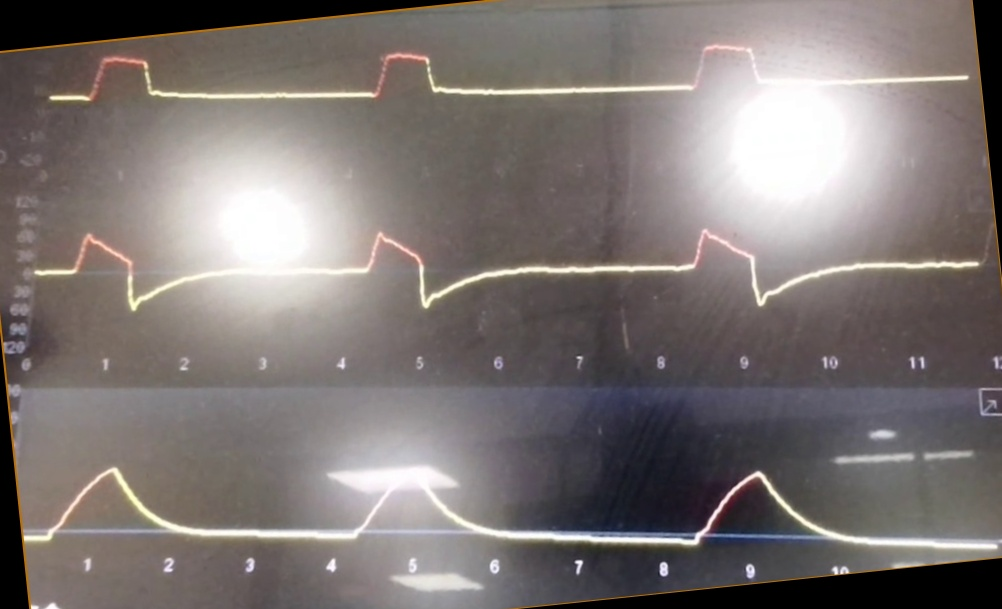Normal Flow: (38, 194, 1000, 343)
Normal Volume: (28, 433, 995, 556)
